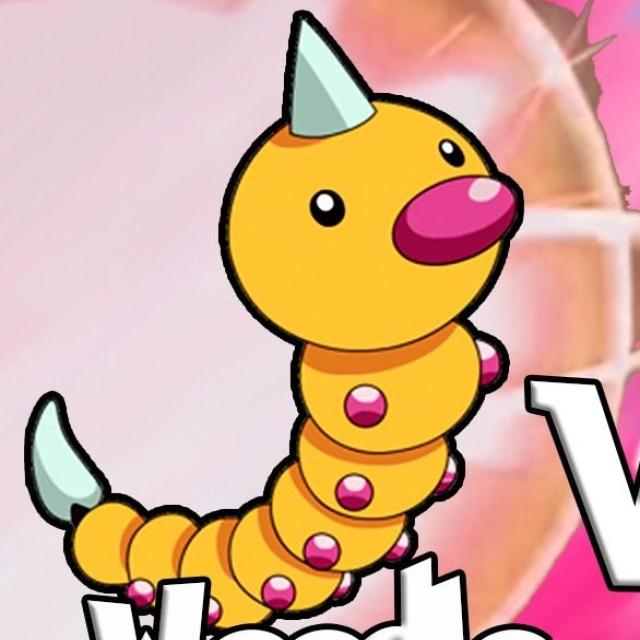Weedle: (172, 11, 520, 611)
